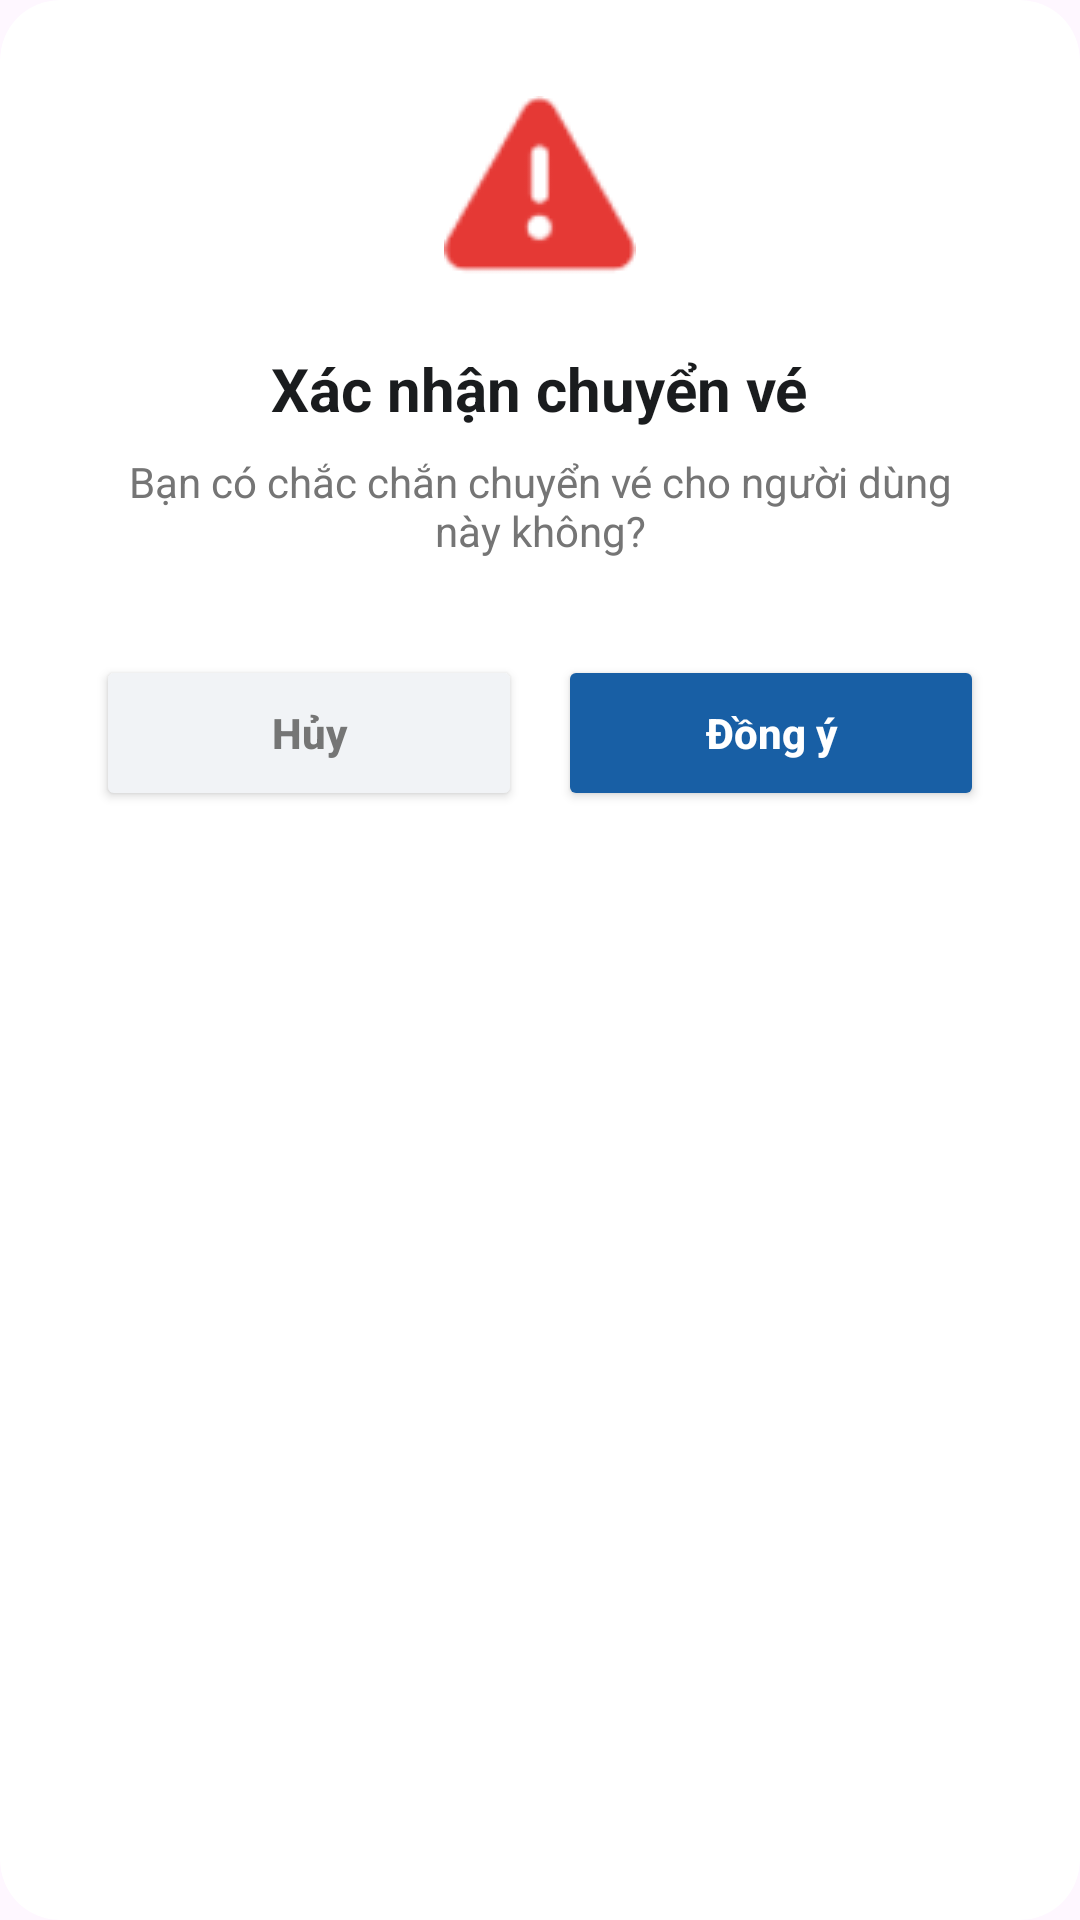

Icon click points for this 1080w x 1920h phone screenshot, format (x,y):
Alert Icon: (540,183)
